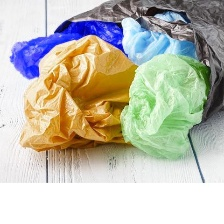plastic_bag: (52, 0, 223, 129), (15, 33, 142, 154), (117, 51, 211, 163), (7, 16, 128, 81), (119, 13, 205, 69)
